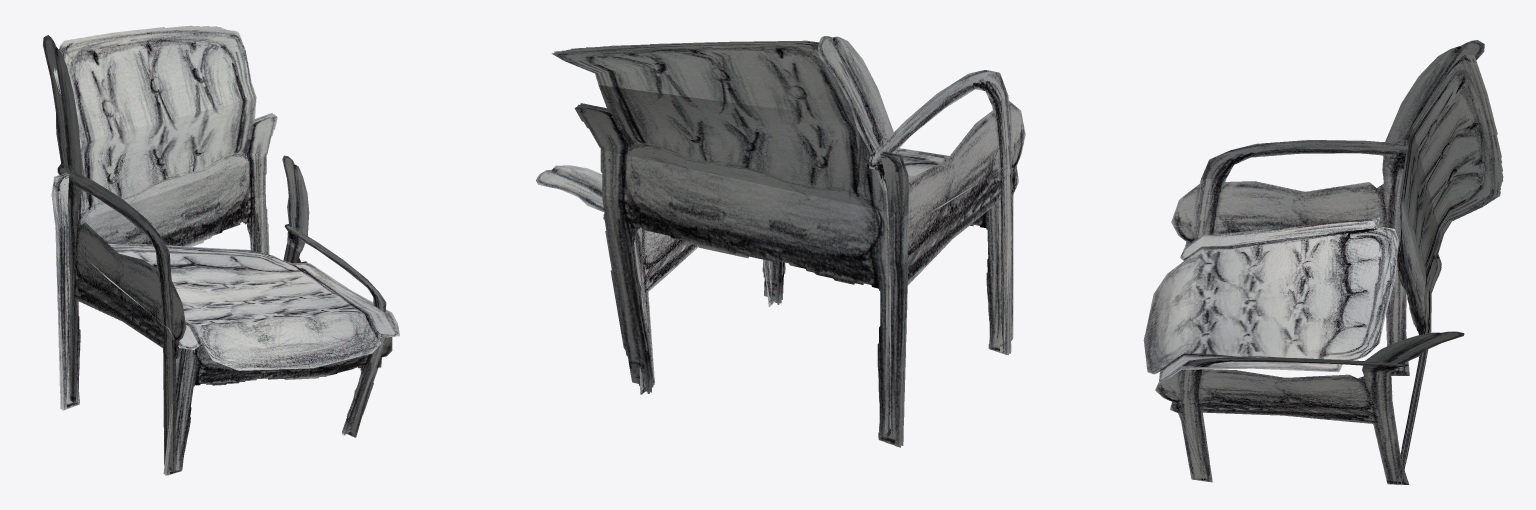
Rendered from Chair_Damaged.fbx.
3 renders of one model, left to right at view 1: azimuth 30°, elevation 25°; view 2: azimuth 150°, elevation 25°; view 3: azimuth 270°, elevation 25°, orthographic. The views are drawn at different scales.
Parts seen in each view (by area): view 1: Plane.001; view 2: Plane.001; view 3: Plane.001.
Part boxes in pixels (left/top/right/bottom): Plane.001: left=43, top=25, right=399, bottom=475; Plane.001: left=536, top=36, right=1025, bottom=447; Plane.001: left=1143, top=40, right=1503, bottom=484.
Size of the model in its own units: 79.06 by 92.82 by 100.
